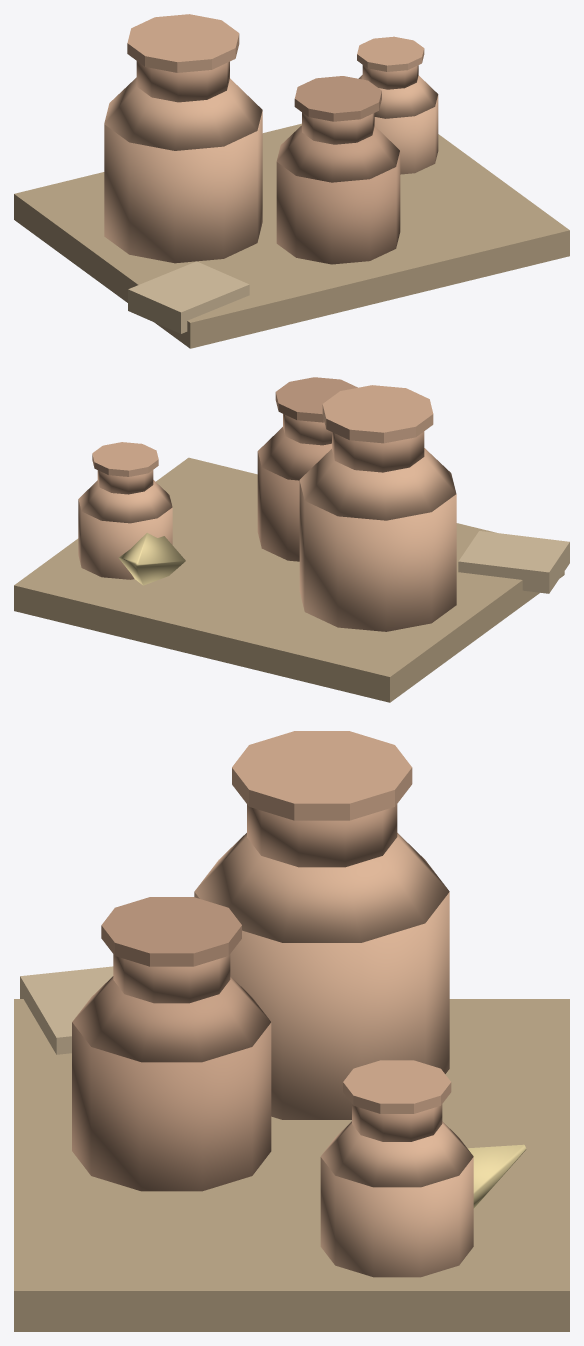
The model's file is clay_jars.fbx.
3 views of the same model, one above another, from view 1: azimuth 30°, elevation 25°; view 2: azimuth 150°, elevation 25°; view 3: azimuth 270°, elevation 25° (orthographic). The views are drawn at different scales.
Parts seen in each view (by area): view 1: EN_clay_jars; view 2: EN_clay_jars; view 3: EN_clay_jars.
Part boxes in pixels (left/top/right/bottom): EN_clay_jars: left=14, top=14, right=569, bottom=348; EN_clay_jars: left=14, top=377, right=569, bottom=702; EN_clay_jars: left=14, top=731, right=569, bottom=1331.
Size of the model in its own units: 97.64 by 50.25 by 74.
